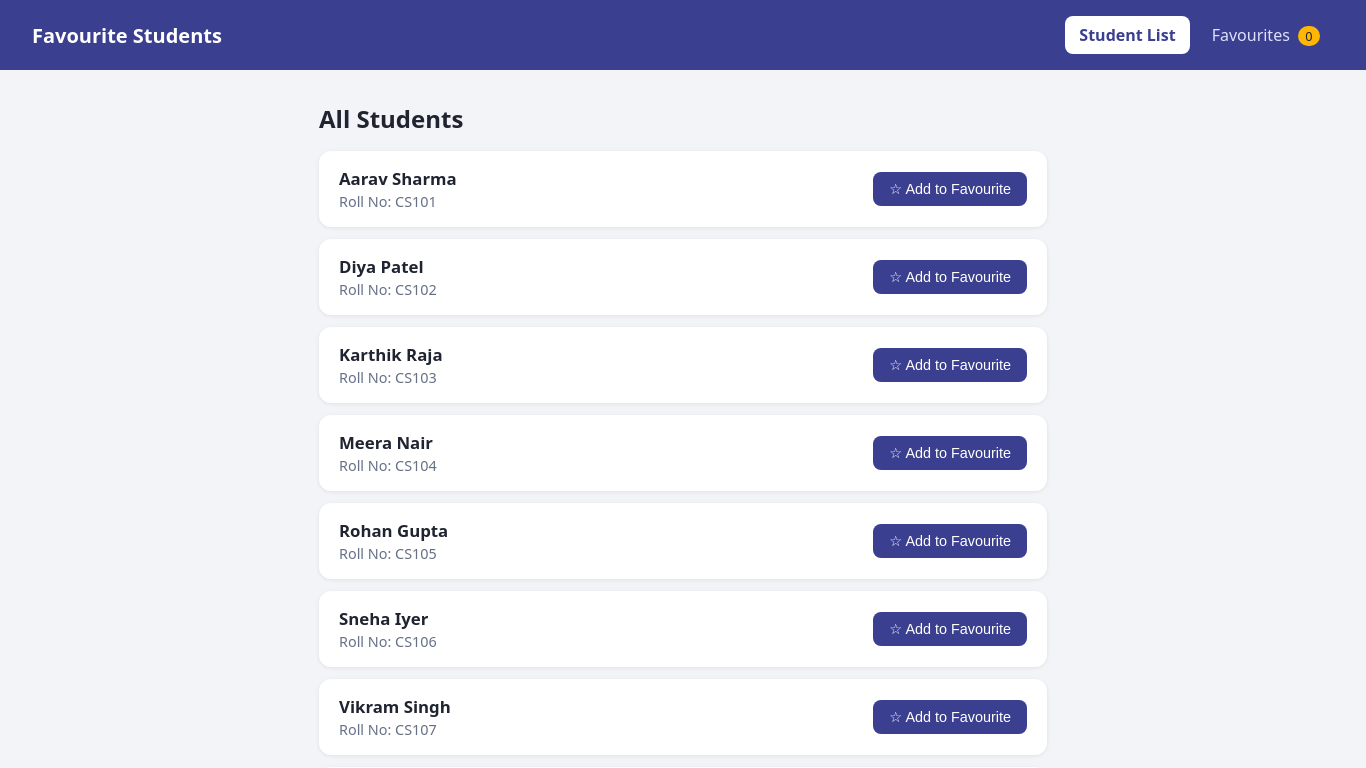
Test: Favourite Student List › shows the empty message when there are no favourites
Click the link "Favourites 0": (1266, 35) [1212,24,1320,46]
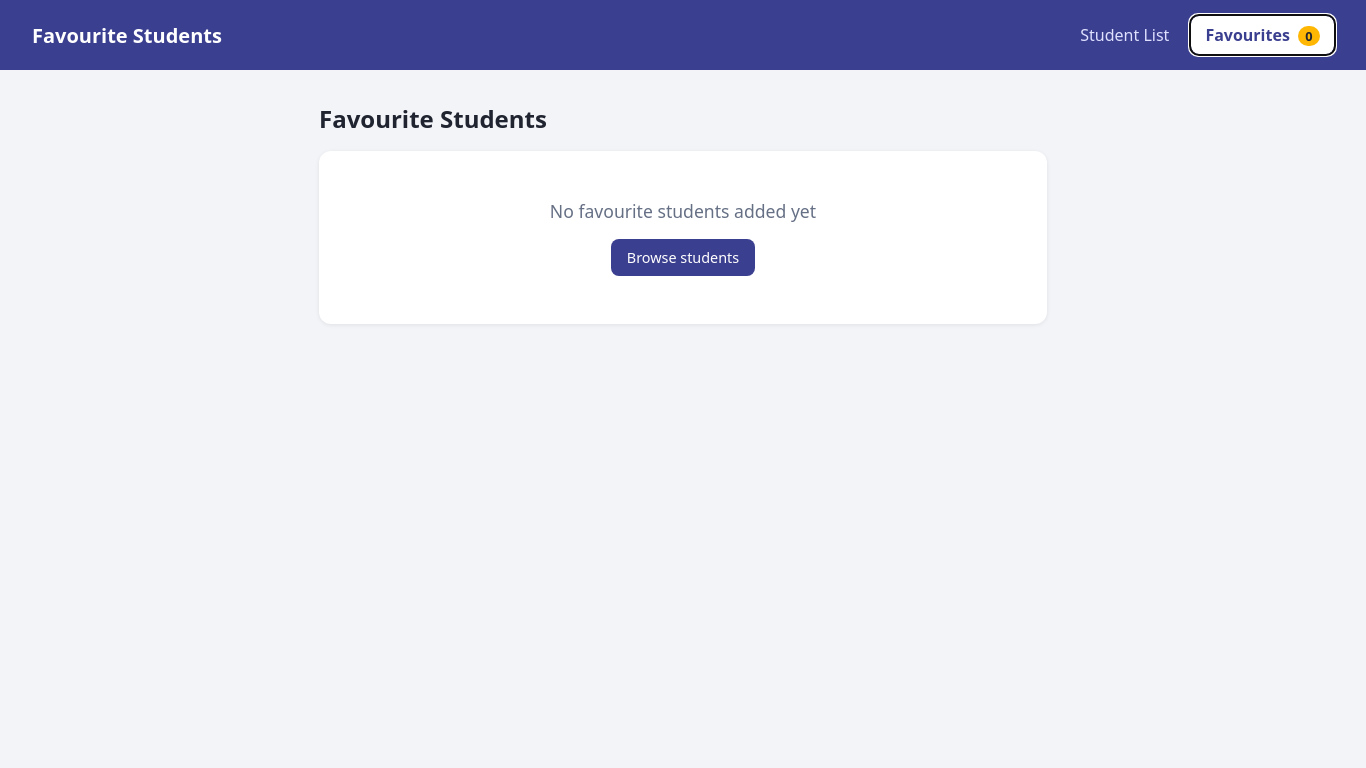
Expected: the text "No favourite students added yet" is shown, [550,199,816,223]
